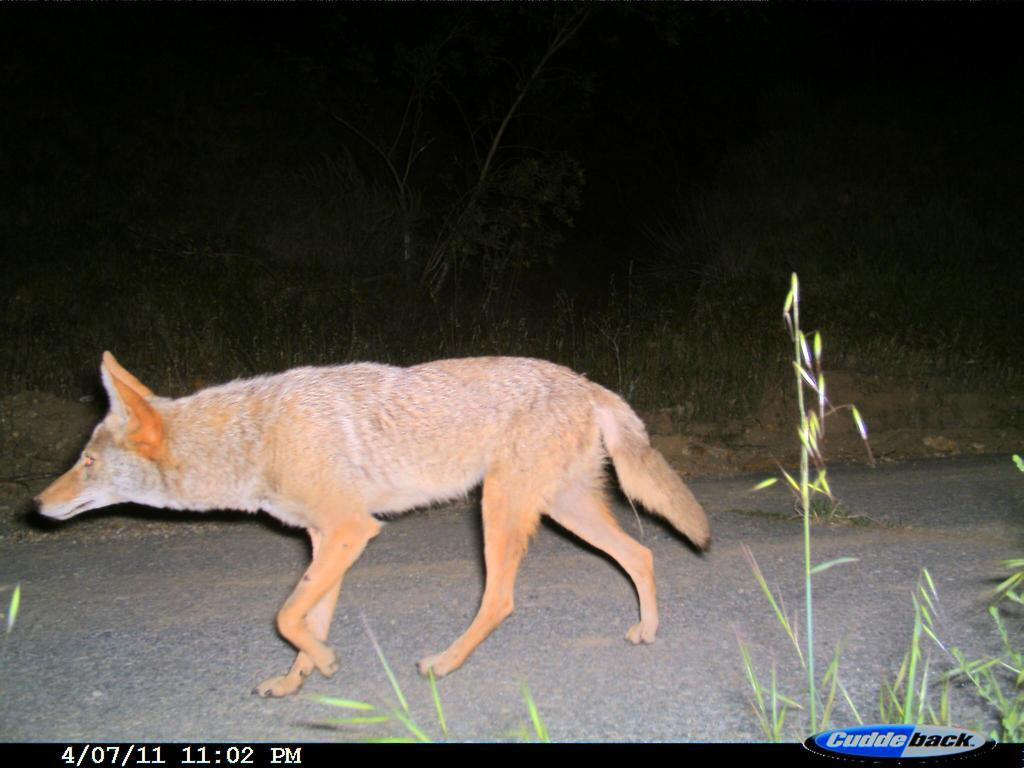coyote: (20, 341, 756, 705)
